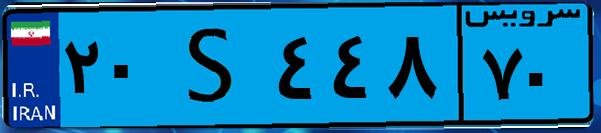0: (525, 38, 570, 115), (110, 28, 158, 98)
2: (57, 26, 110, 100)
4: (270, 28, 330, 110), (330, 28, 385, 110)
7: (475, 38, 525, 113)
8: (385, 28, 445, 110)
S: (158, 12, 270, 120)
